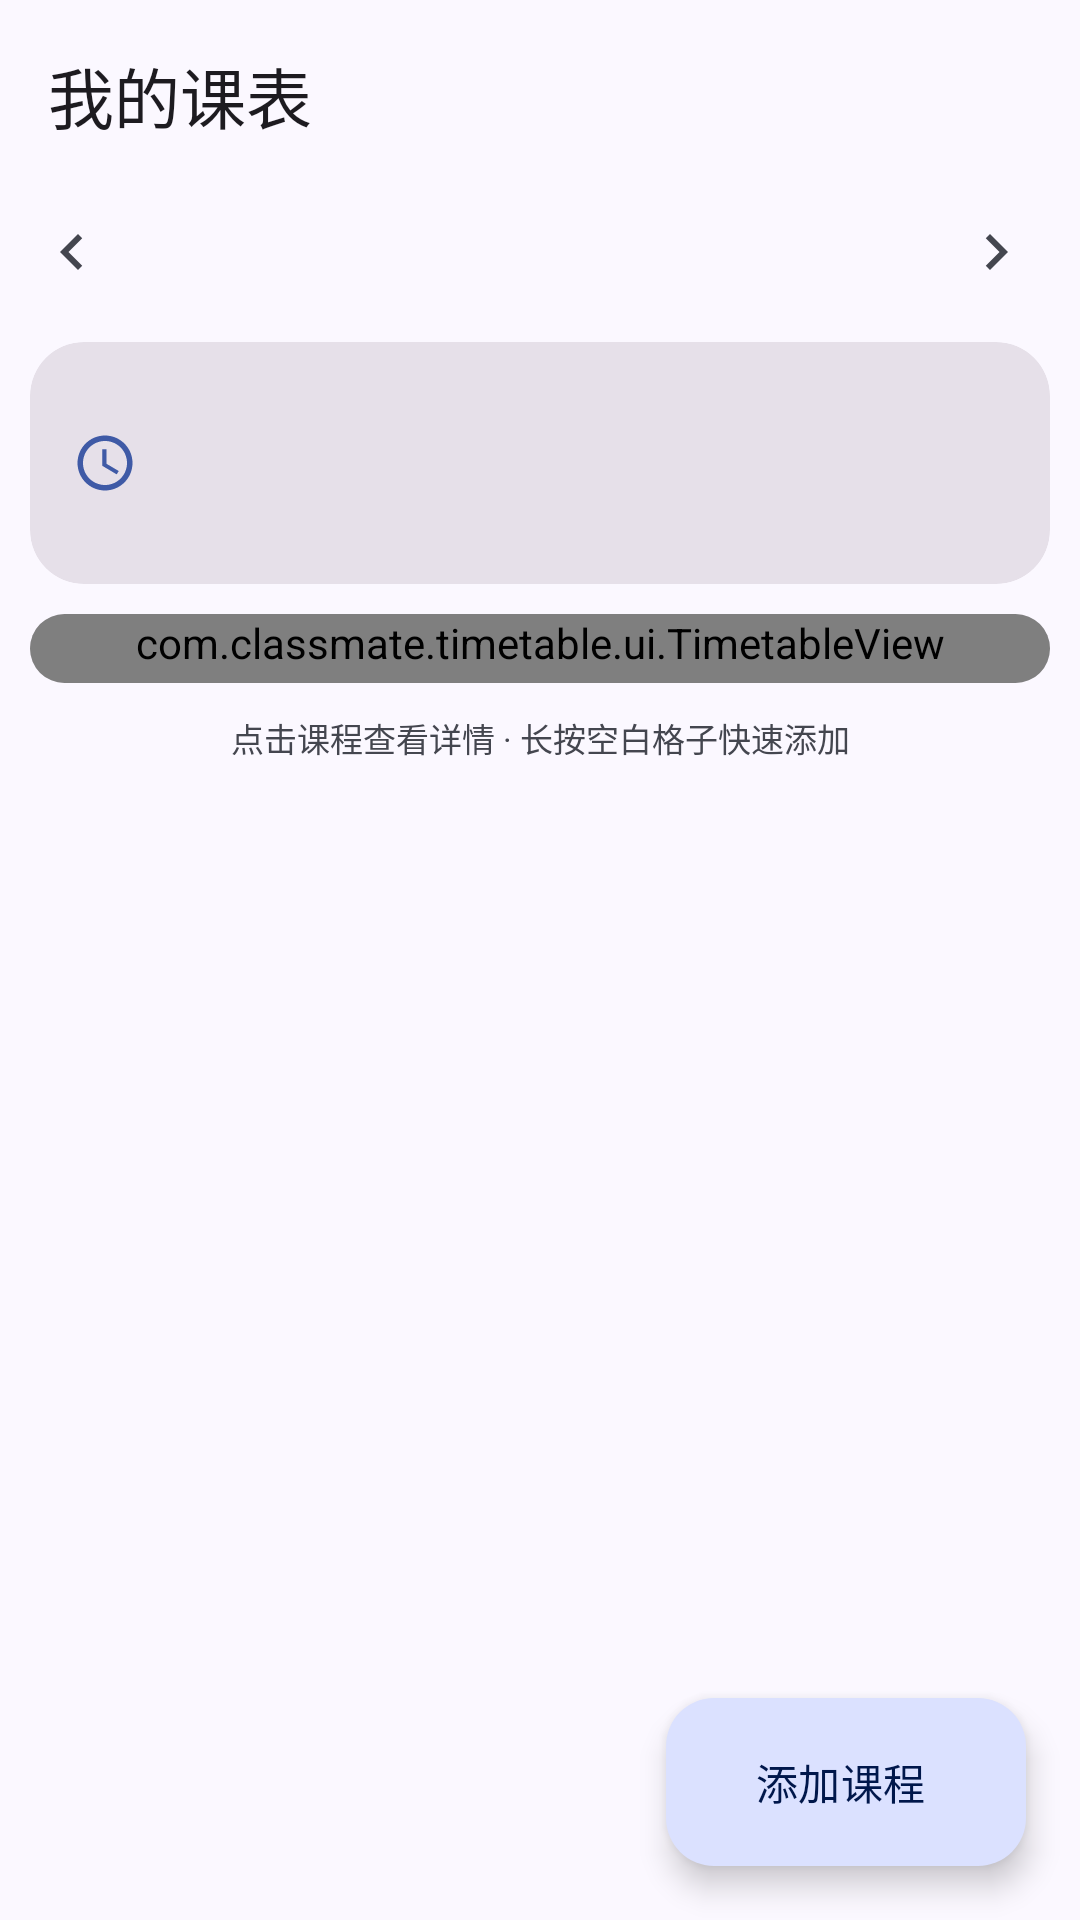

Locate icon controls on the screen. Image size 1080px x 1920px, boxes as (x1, y1, x2, y2).
clock: (77, 435, 133, 491)
上一周: (60, 234, 82, 270)
下一周: (986, 234, 1008, 270)
